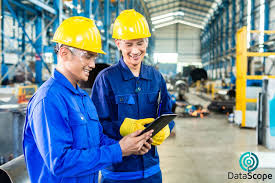helmet: (51, 14, 105, 54), (113, 9, 153, 39)
